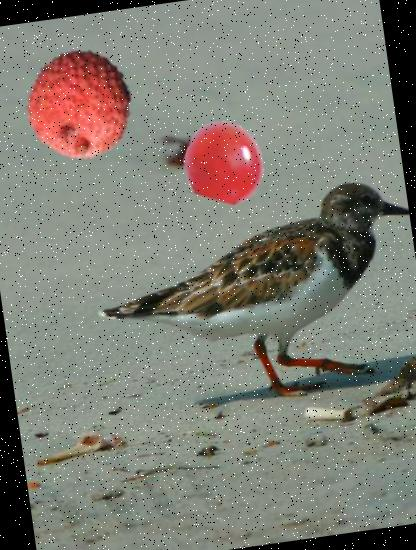Lychee: (15, 42, 144, 171)
Redcurrant: (180, 118, 270, 208)
